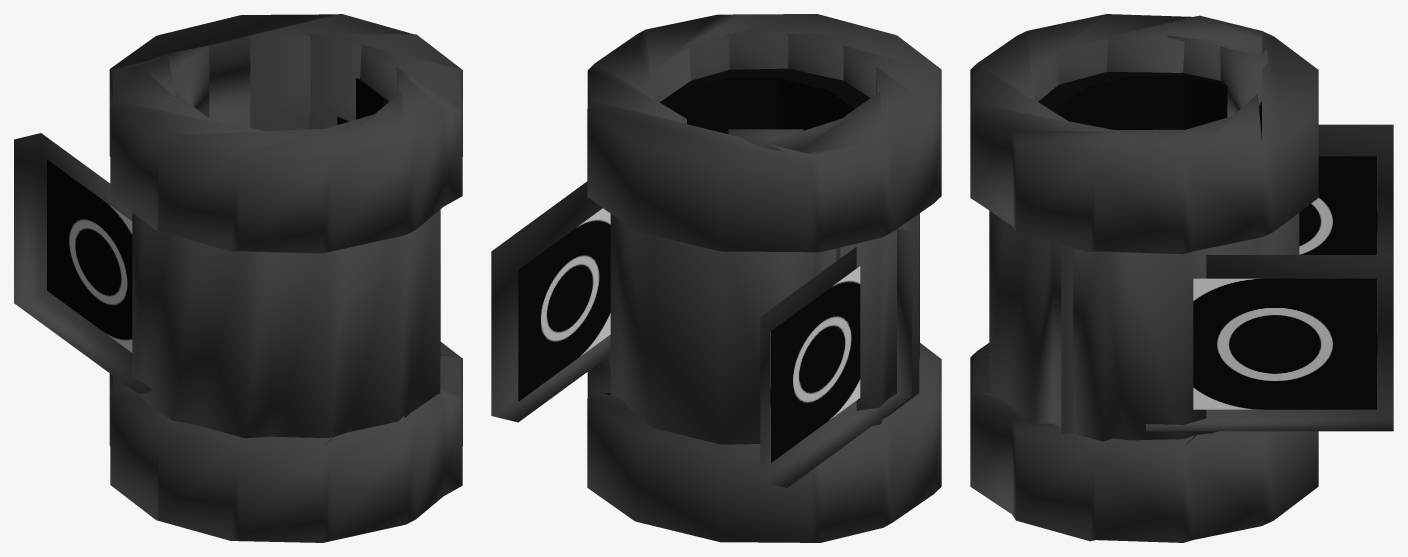
The model's file is billblaster_small.obj.
3 renders of one model, left to right at view 1: azimuth 30°, elevation 25°; view 2: azimuth 150°, elevation 25°; view 3: azimuth 270°, elevation 25°, orthographic.
Visible parts, largest first — view 1: mat5model2surf54, mat3model1surf1, mat5model2surf58, mat1model1surf16; view 2: mat5model2surf54, mat3model1surf0, mat3model1surf1, mat5model2surf58, mat5model2surf55, mat1model1surf28, mat1model1surf30, mat1model1surf14, mat1model1surf22; view 3: mat5model2surf54, mat3model1surf0, mat5model2surf55, mat3model1surf1, mat5model2surf58, mat1model1surf42, mat1model1surf41, mat1model1surf38, mat1model1surf14, mat1model1surf36.
Part boxes in pixels (bbox=[...]): mat5model2surf54: bbox=[109, 14, 462, 542]; mat3model1surf1: bbox=[47, 159, 132, 352]; mat5model2surf58: bbox=[14, 133, 152, 394]; mat1model1surf16: bbox=[356, 78, 383, 119]; mat5model2surf54: bbox=[587, 14, 941, 542]; mat3model1surf0: bbox=[518, 208, 610, 401]; mat3model1surf1: bbox=[770, 266, 860, 463]; mat5model2surf58: bbox=[760, 229, 911, 487]; mat5model2surf55: bbox=[491, 181, 610, 422]; mat1model1surf28: bbox=[726, 78, 780, 133]; mat1model1surf30: bbox=[780, 78, 829, 130]; mat1model1surf14: bbox=[660, 68, 869, 108]; mat1model1surf22: bbox=[679, 78, 725, 133]; mat5model2surf54: bbox=[970, 14, 1318, 542]; mat3model1surf0: bbox=[1193, 278, 1377, 409]; mat5model2surf55: bbox=[1146, 255, 1393, 431]; mat3model1surf1: bbox=[1299, 156, 1377, 254]; mat5model2surf58: bbox=[1318, 124, 1393, 254]; mat1model1surf42: bbox=[1132, 76, 1188, 129]; mat1model1surf41: bbox=[1086, 76, 1133, 129]; mat1model1surf38: bbox=[1189, 76, 1227, 128]; mat1model1surf14: bbox=[1038, 72, 1261, 139]; mat1model1surf36: bbox=[1059, 88, 1086, 124].
Bounding box in the file's own units: 38.68 × 47.56 × 46.87.
